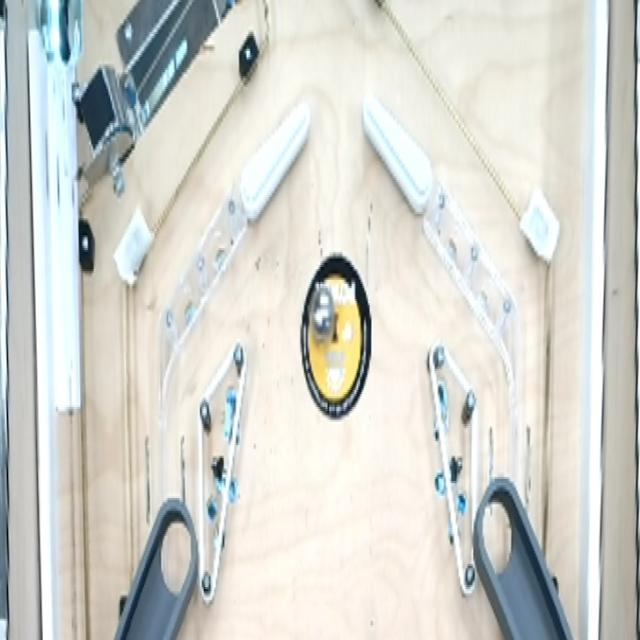ball: (308, 276, 336, 342)
flipper-left: (360, 85, 436, 224)
flipper-right: (237, 89, 312, 233)
